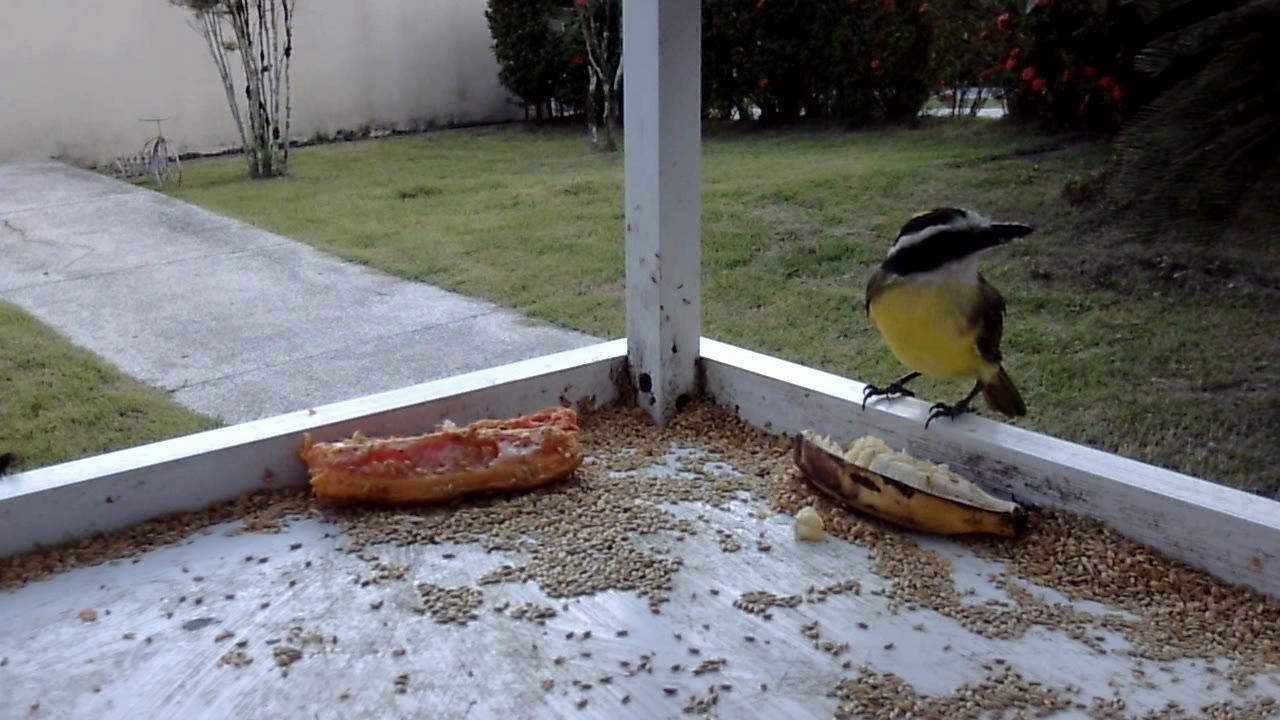bem_te_vi: (849, 200, 1045, 437)
